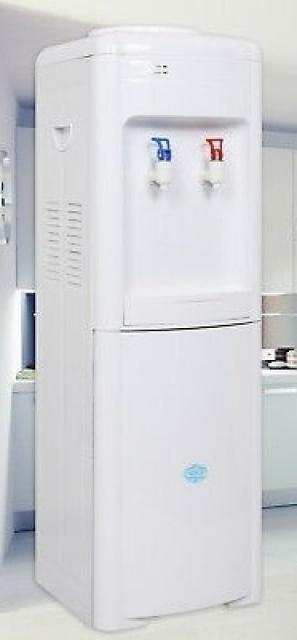Dispenser: (33, 24, 263, 633)
